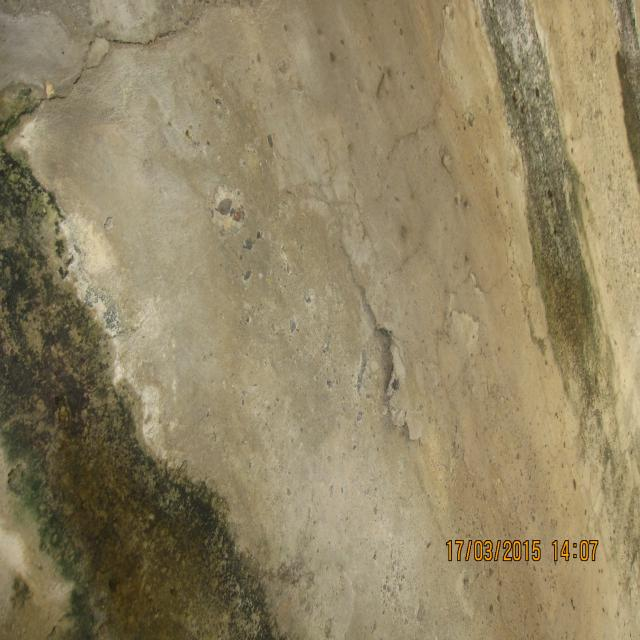corrosion: (17, 312, 251, 640), (525, 242, 607, 372)
